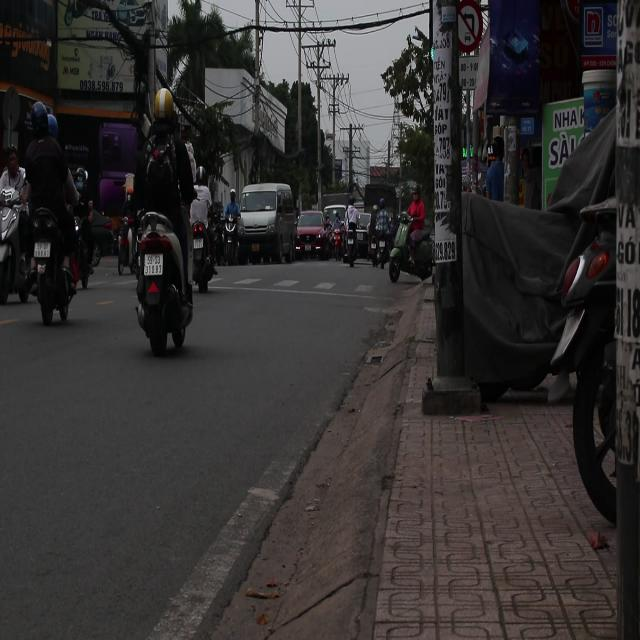car: (295, 212, 328, 258)
motorbike: (130, 210, 194, 358), (25, 197, 79, 326), (0, 166, 33, 310), (386, 213, 433, 284), (189, 205, 218, 292), (366, 198, 391, 268), (218, 202, 243, 266), (320, 210, 350, 262), (114, 212, 138, 276)
truck: (238, 182, 299, 265)
